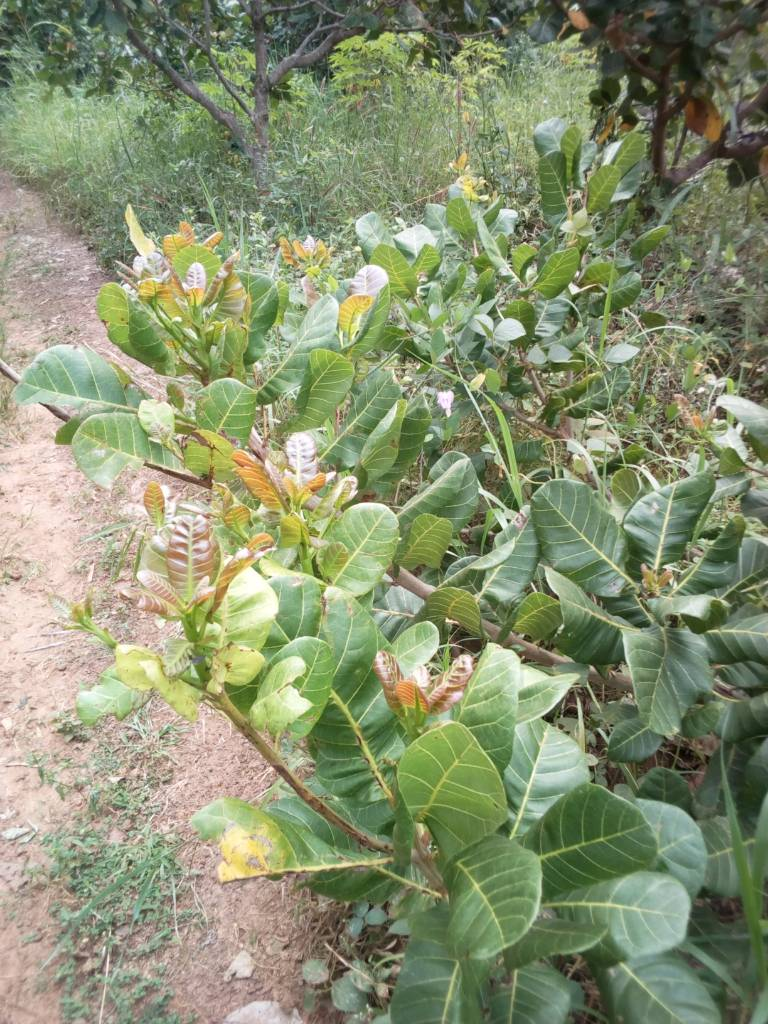Helopeltis anacardii: (94, 280, 183, 375), (274, 352, 354, 436), (171, 511, 219, 597)
